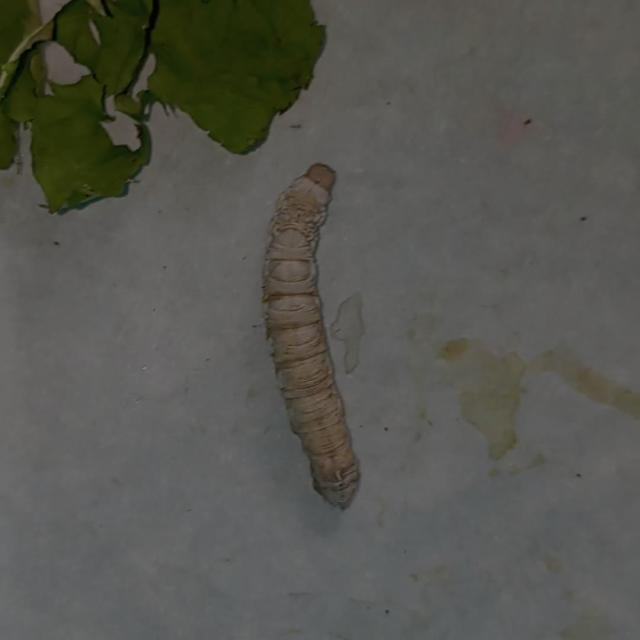Grasserie: (246, 143, 382, 512)
